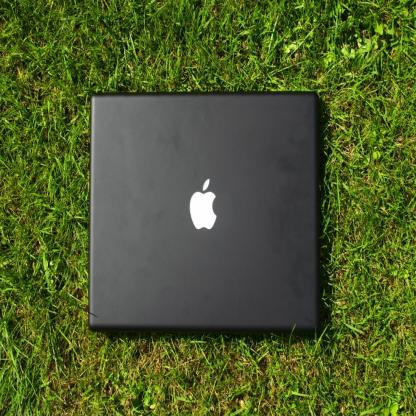board: (81, 91, 333, 341)
